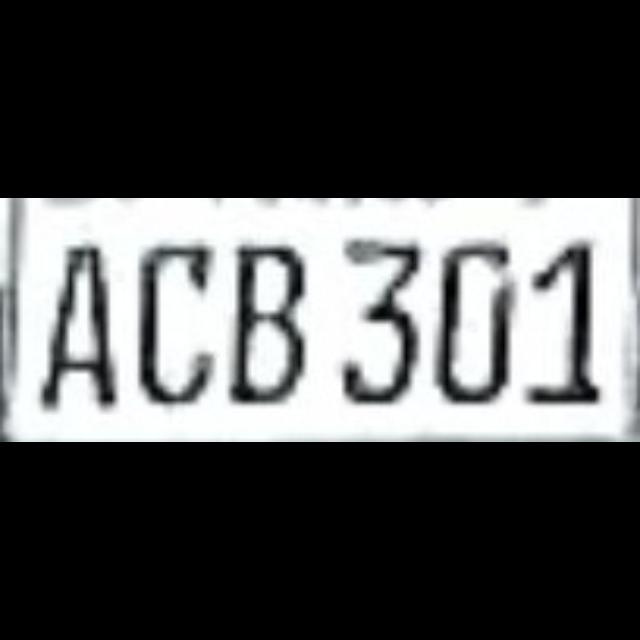0: (426, 235, 524, 411)
1: (520, 235, 618, 411)
3: (332, 235, 428, 411)
A: (42, 235, 140, 411)
B: (235, 235, 332, 411)
C: (138, 235, 235, 411)
